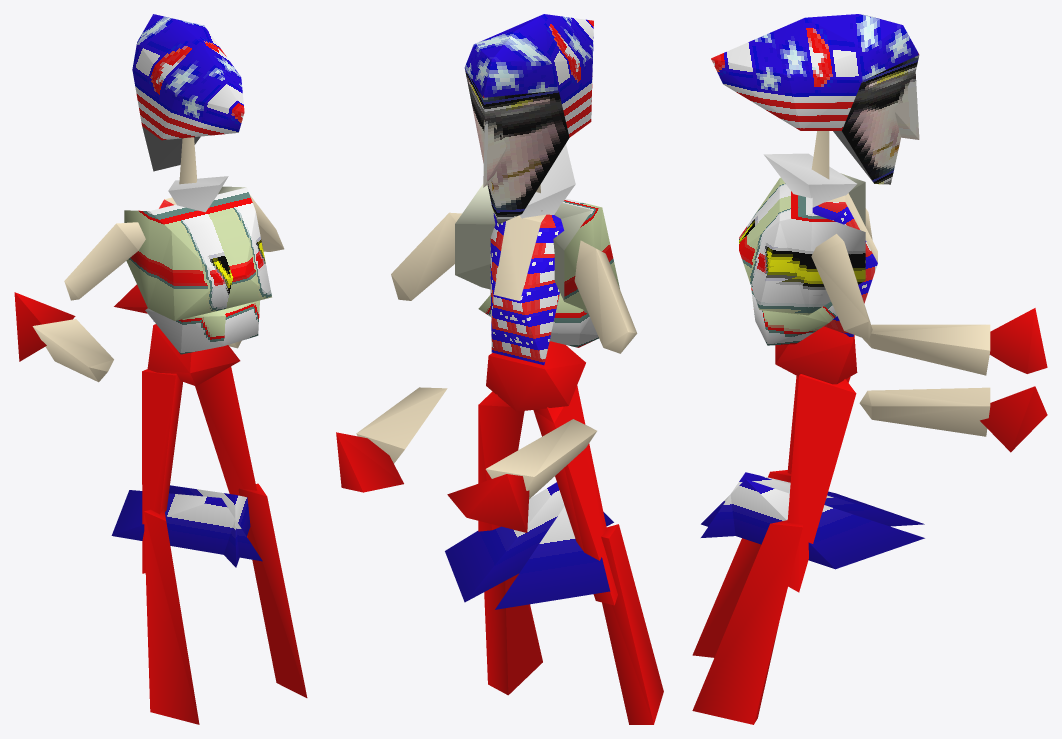
File: uvmd-0336.glb
The picture shows the model from 3 angles, left to right: view 1: azimuth 30°, elevation 25°; view 2: azimuth 150°, elevation 25°; view 3: azimuth 270°, elevation 25°; orthographic projection. The views are drawn at different scales.
Visible parts, largest first — view 1: part-00, part-12, part-07, part-10, part-08, part-06, part-02, part-09, part-01, part-05, part-11, part-03 (+1 smaller); view 2: part-00, part-12, part-02, part-07, part-11, part-04, part-08, part-06, part-05, part-10, part-01, part-03 (+1 smaller); view 3: part-12, part-00, part-10, part-09, part-04, part-02, part-11, part-05, part-03, part-07, part-08.
Part boxes in pixels (box(x1,y1,x2,y2)): part-00: box(124, 176, 271, 354); part-12: box(132, 14, 244, 184); part-07: box(143, 508, 199, 724); part-10: box(238, 483, 307, 697); part-08: box(111, 490, 262, 561); part-06: box(142, 369, 182, 573); part-02: box(14, 292, 113, 382); part-09: box(195, 366, 256, 537); part-01: box(64, 222, 145, 300); part-05: box(147, 324, 240, 386); part-11: box(169, 485, 250, 567); part-03: box(249, 194, 284, 251); part-00: box(455, 144, 619, 365); part-12: box(464, 14, 593, 224); part-02: box(447, 419, 596, 532); part-07: box(601, 524, 663, 724); part-11: box(445, 482, 613, 602); part-04: box(336, 387, 447, 492); part-08: box(495, 506, 610, 609); part-06: box(533, 385, 617, 605); part-05: box(486, 341, 585, 411); part-10: box(484, 573, 542, 695); part-01: box(574, 240, 637, 353); part-03: box(391, 212, 461, 300); part-12: box(711, 14, 919, 184); part-00: box(739, 153, 877, 345); part-10: box(692, 520, 802, 724); part-09: box(787, 374, 856, 592); part-04: box(859, 386, 1047, 452); part-02: box(862, 308, 1047, 375); part-11: box(701, 479, 924, 569); part-05: box(775, 326, 857, 384); part-03: box(811, 234, 872, 340); part-07: box(692, 470, 791, 657); part-08: box(701, 472, 924, 537).
Bounding box in the file's own units: 63.03 × 182 × 86.83.
Materials: 19 (19 with a texture image).
